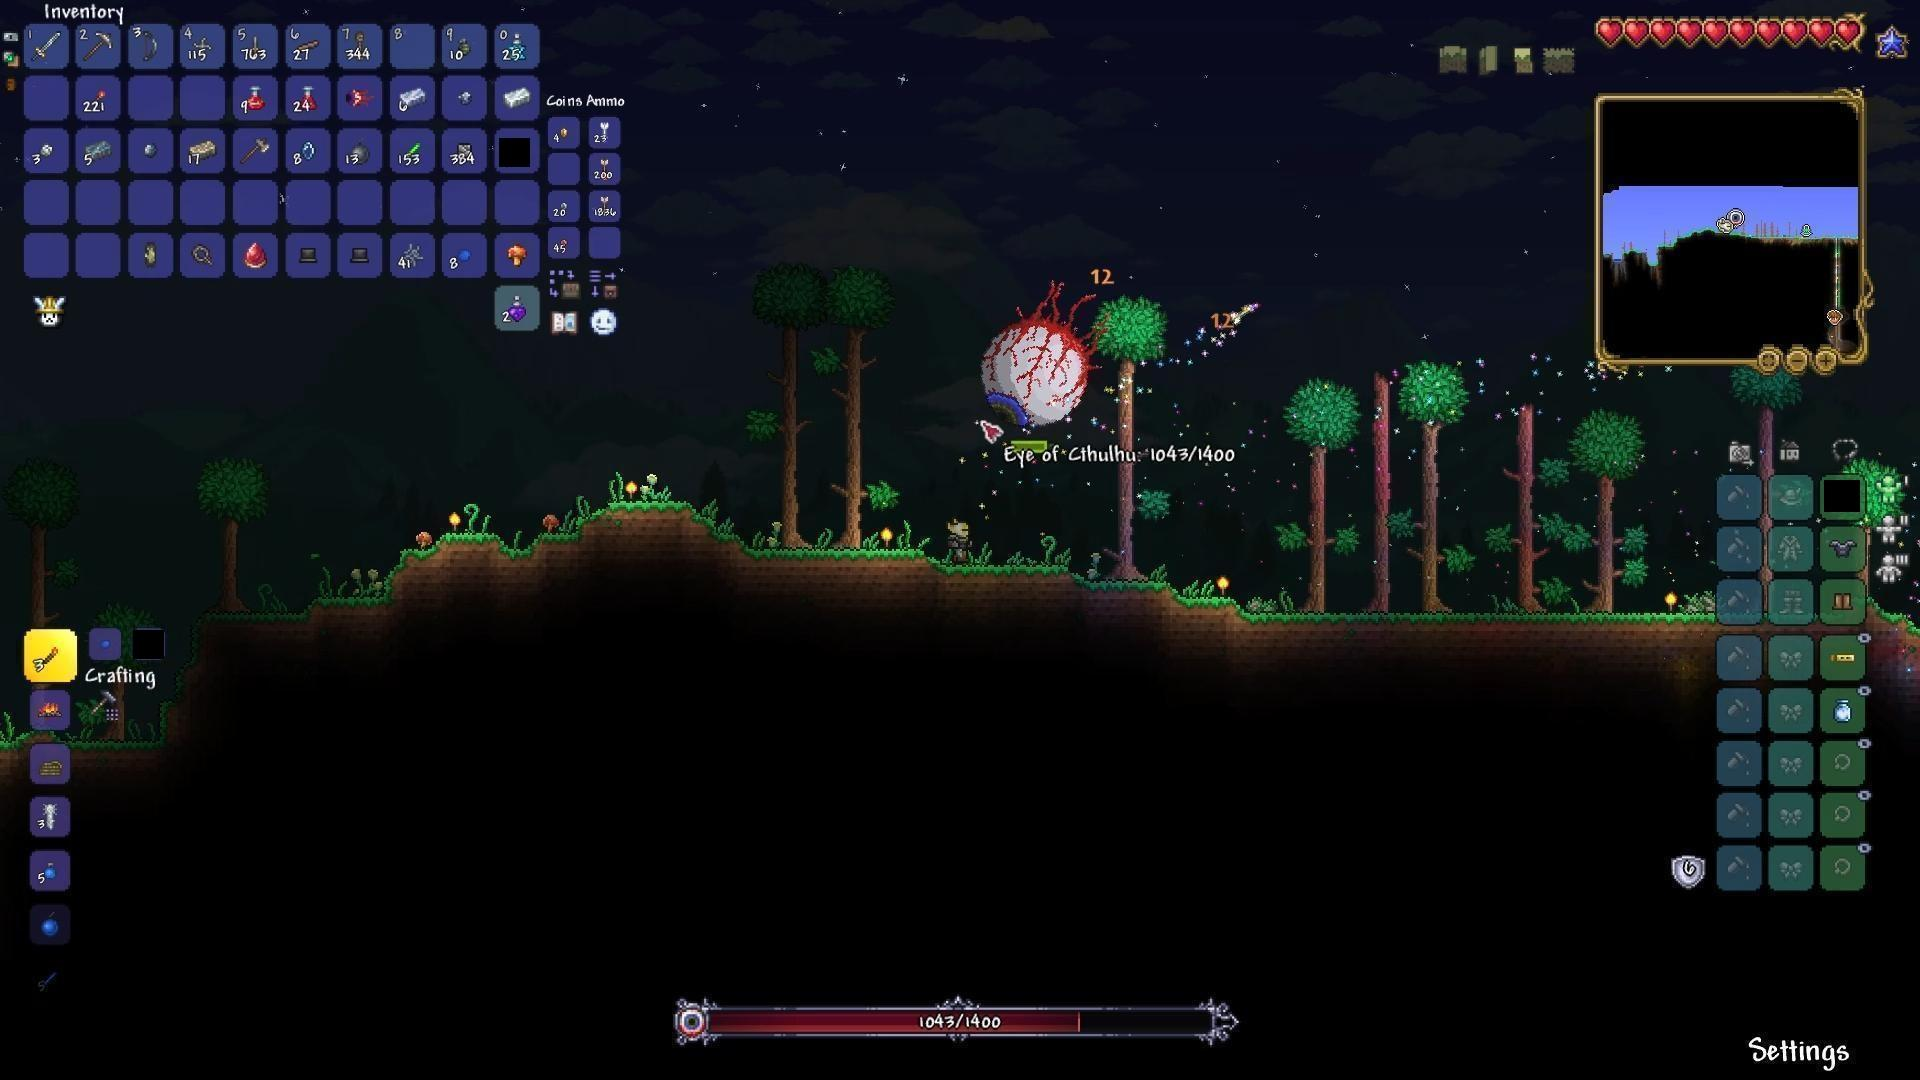breastplate: (1826, 537, 1858, 559)
legs: (1829, 589, 1854, 618)
